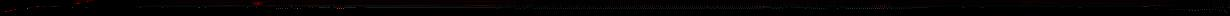Yellow cone: (251, 2, 264, 6), (872, 5, 889, 7)
